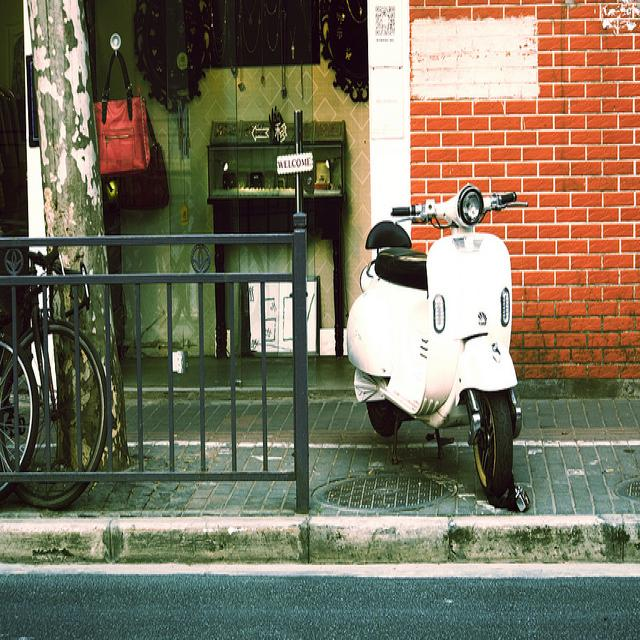motor: (346, 190, 522, 494)
